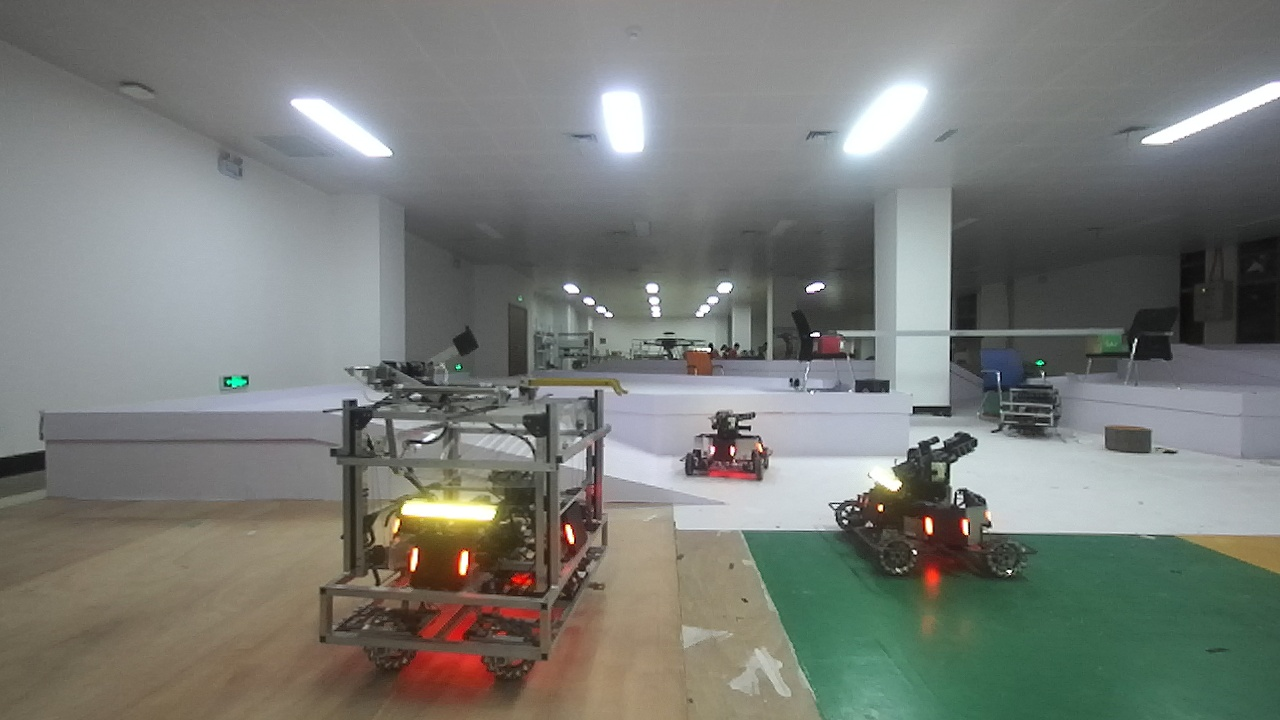car: (332, 379, 617, 692), (832, 434, 1044, 591), (673, 397, 793, 502)
